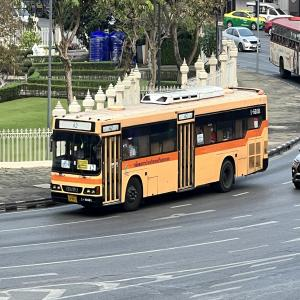BMTA-bus: (50, 87, 269, 213), (270, 16, 300, 79)
Bus Line Number: (70, 120, 80, 129)
Bus Side Number: (79, 196, 94, 203), (250, 108, 262, 115)
Destination Sign: (77, 159, 88, 170)
